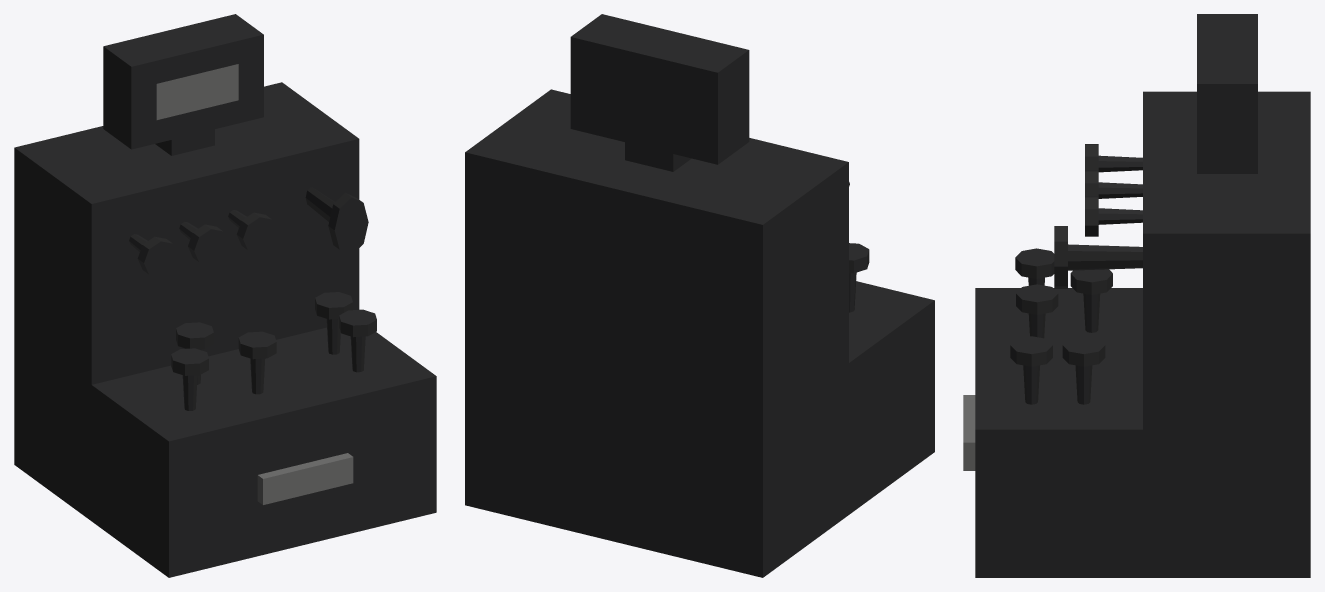
File: Counter_MC.fbx
The picture shows the model from 3 angles, left to right: view 1: azimuth 30°, elevation 25°; view 2: azimuth 150°, elevation 25°; view 3: azimuth 270°, elevation 25°; orthographic projection. The views are drawn at different scales.
Parts seen in each view (by area): view 1: Counter_MC; view 2: Counter_MC; view 3: Counter_MC.
Boxes of the visible parts, bbox=[...] form: Counter_MC: bbox=[14, 14, 436, 577]; Counter_MC: bbox=[465, 14, 934, 577]; Counter_MC: bbox=[963, 14, 1310, 577].
Bounding box in the file's own units: 2.1 × 3.15 × 2.17.
